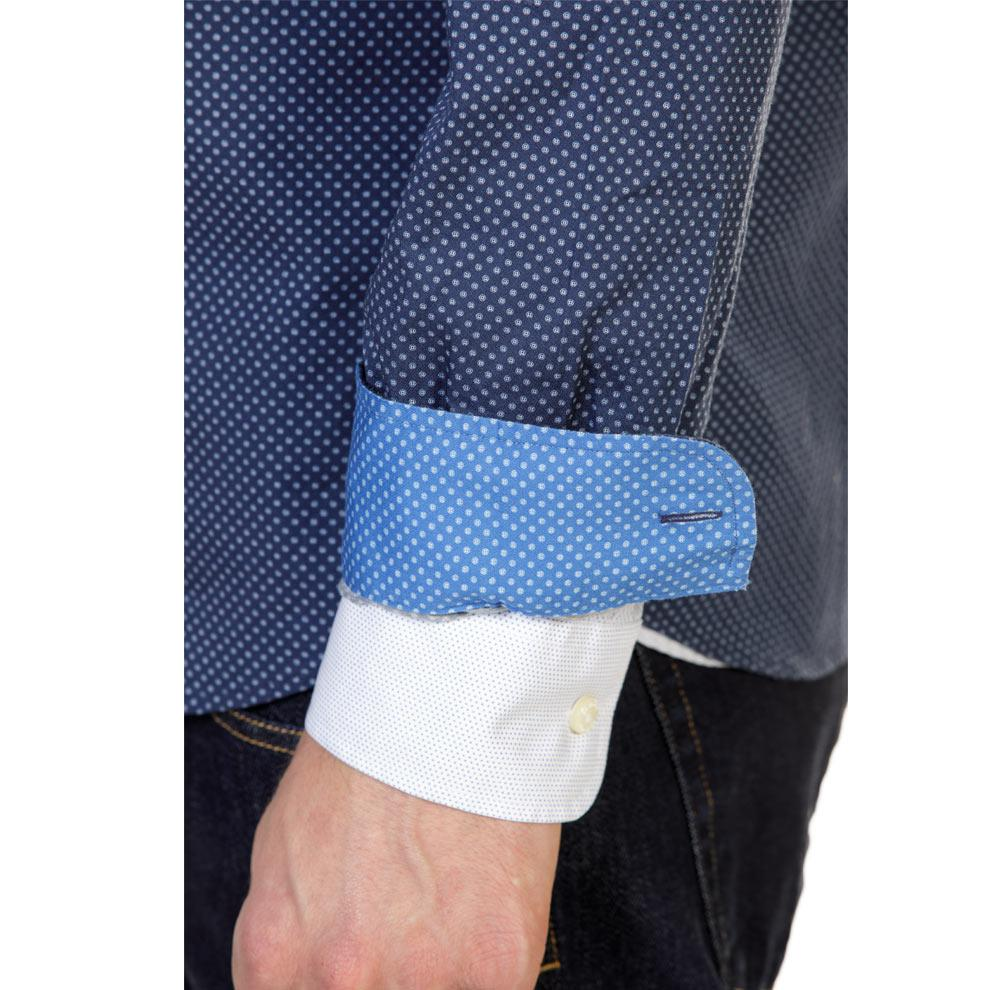teeshirt: (177, 1, 855, 690)
